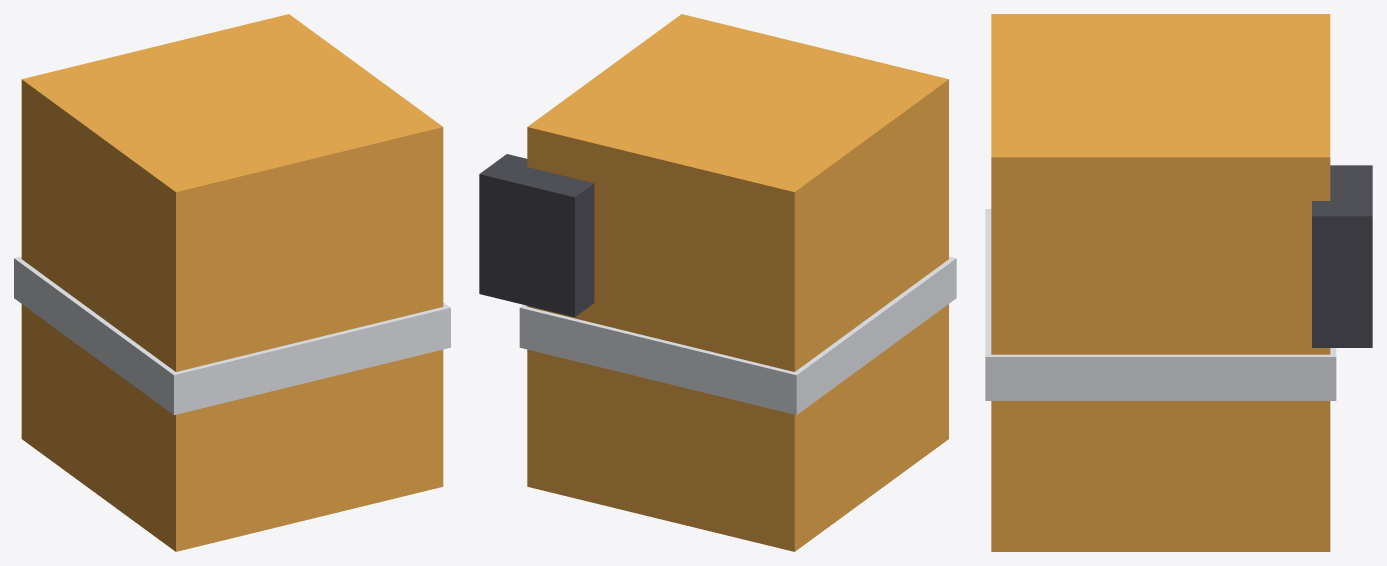
File: mecanico_espacial_coxa.glb
3 renders of one model, left to right at view 1: azimuth 30°, elevation 25°; view 2: azimuth 150°, elevation 25°; view 3: azimuth 270°, elevation 25°, orthographic. The views are drawn at different scales.
Parts seen in each view (by area): view 1: mecanico_espacial_coxa; view 2: mecanico_espacial_coxa; view 3: mecanico_espacial_coxa.
Part boxes in pixels (left/top/right/bottom): mecanico_espacial_coxa: left=14, top=14, right=450, bottom=551; mecanico_espacial_coxa: left=479, top=14, right=956, bottom=551; mecanico_espacial_coxa: left=985, top=14, right=1372, bottom=551.
Bounding box in the file's own units: 0.315 × 0.36 × 0.32.
